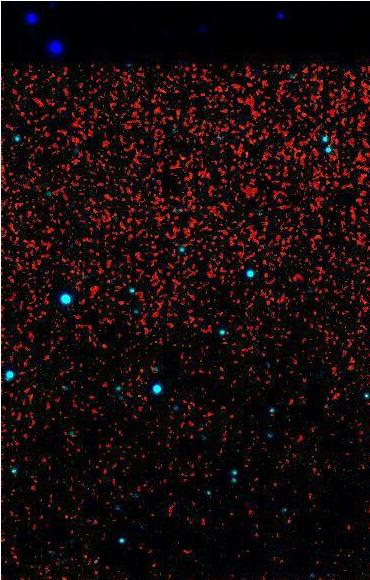star: (89, 330, 119, 360)
